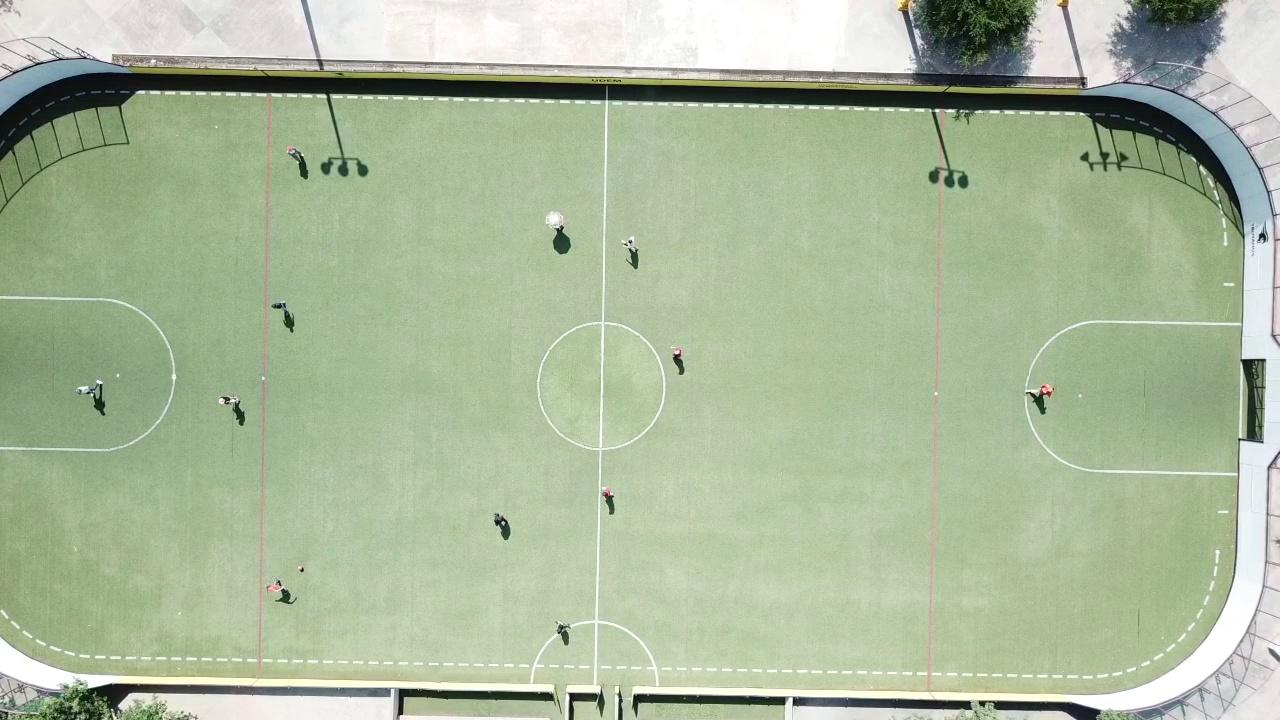ball: (298, 566, 304, 572)
player: (545, 210, 567, 234), (1021, 383, 1050, 400), (75, 379, 102, 395), (284, 145, 306, 164), (556, 621, 570, 641), (621, 236, 637, 253), (265, 577, 283, 592), (219, 395, 240, 407), (493, 512, 507, 528), (601, 487, 614, 502), (271, 302, 288, 313), (670, 346, 683, 360)
